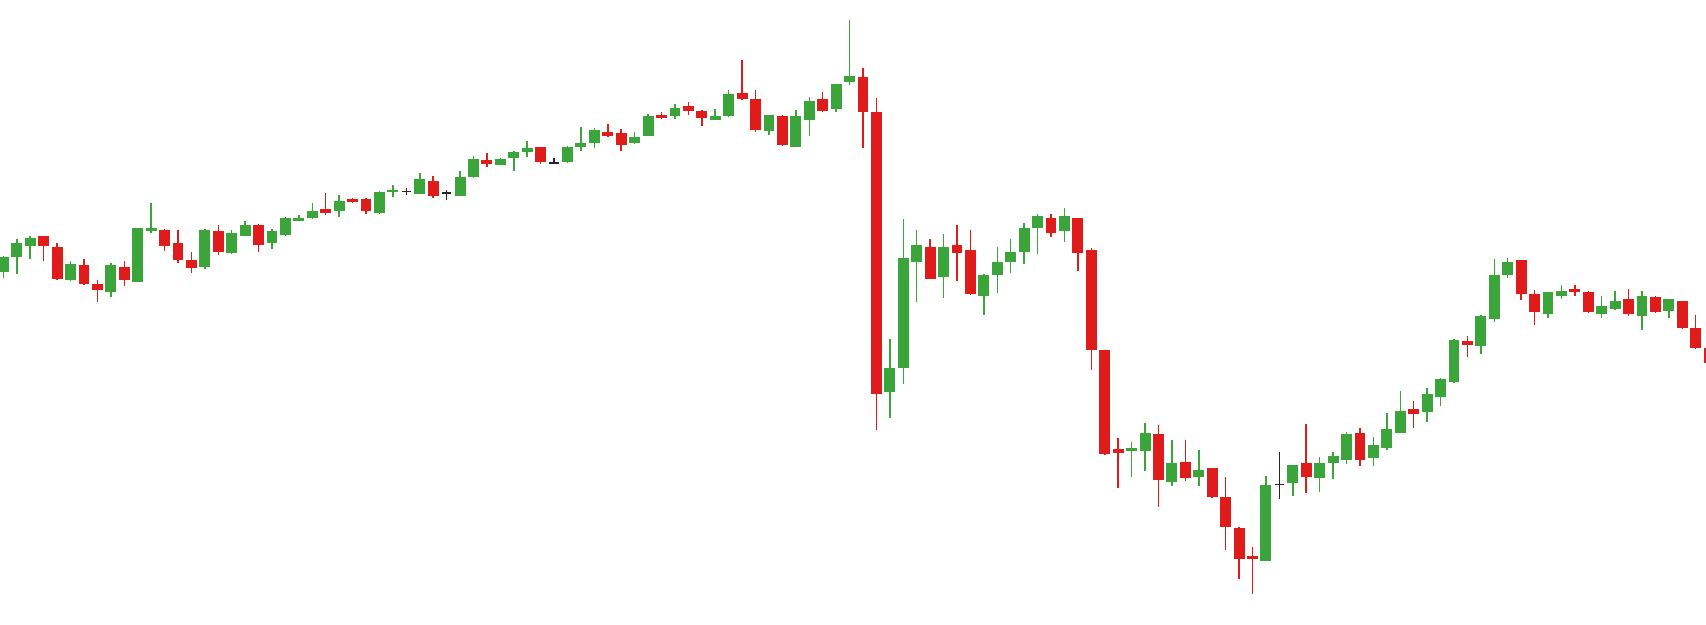sell: (734, 20, 857, 119)
